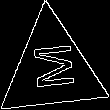M_W: (26, 43, 77, 95)
